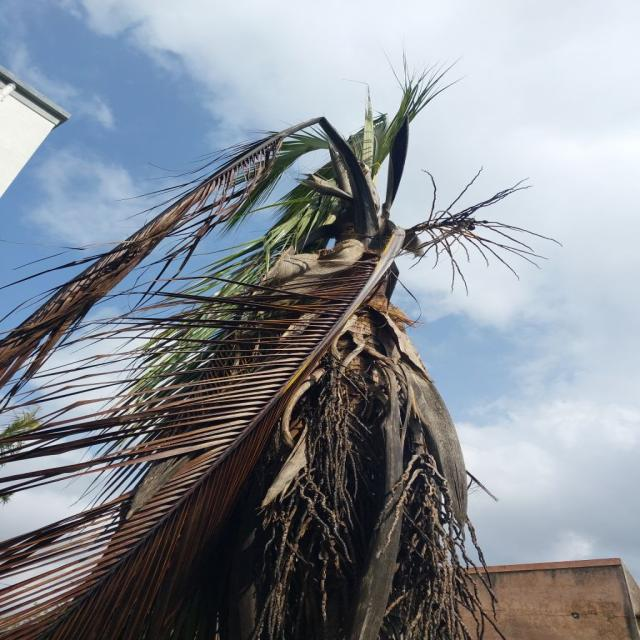bud root dropping: (0, 71, 530, 639)
